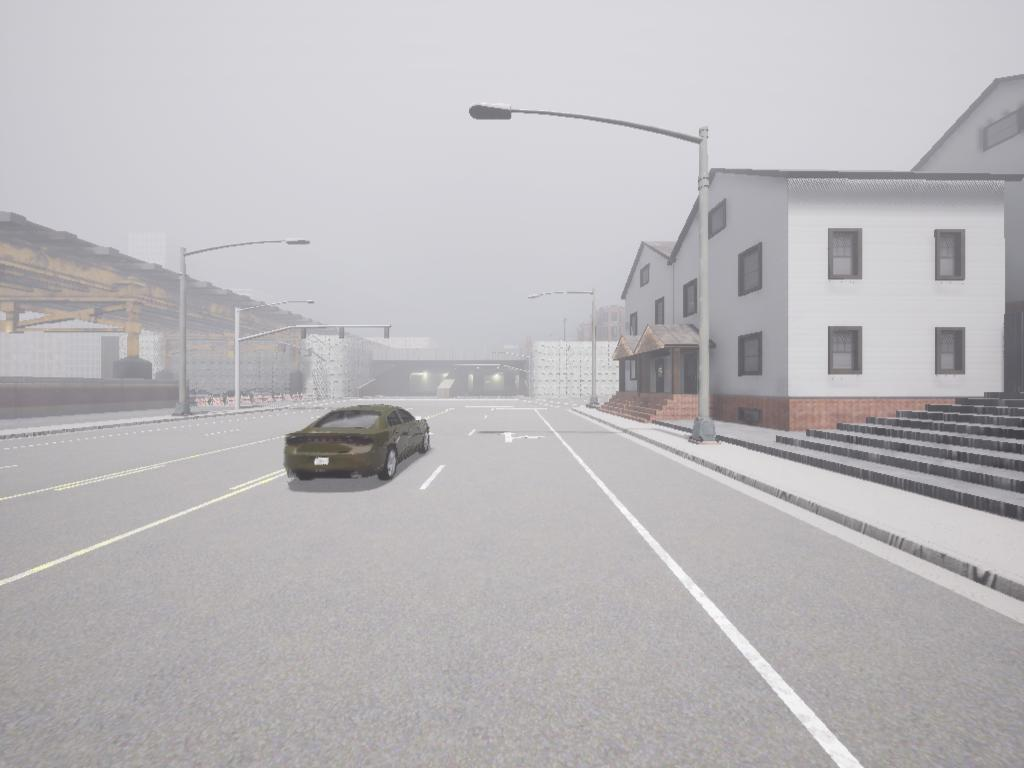traffic_light: (300, 328, 307, 339), (384, 328, 390, 340), (339, 328, 345, 339), (454, 365, 458, 373), (477, 367, 480, 374), (497, 366, 500, 373)
